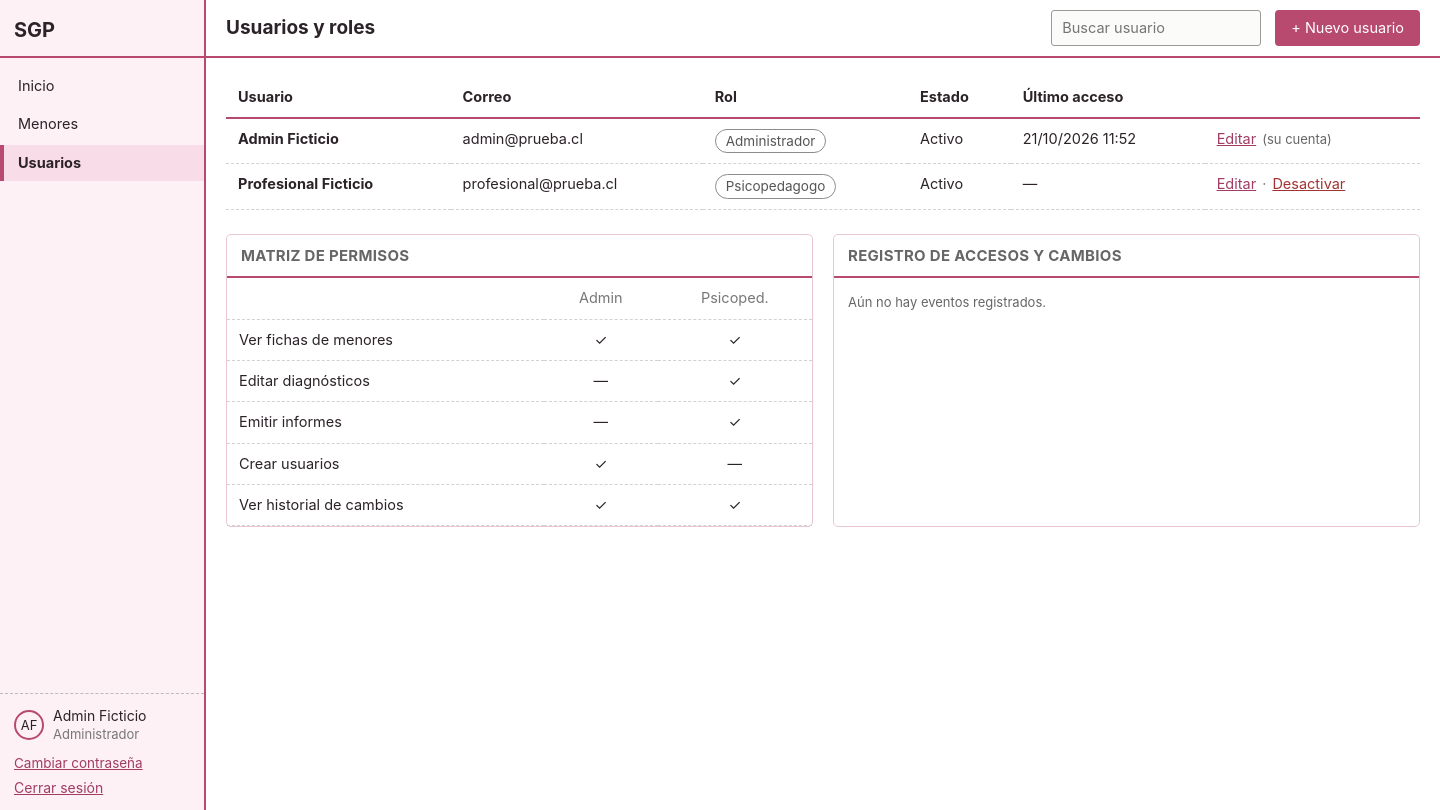
Test: Usuarios y roles (administrador) › registra un usuario con el rol seleccionado
expect the cell "profesional@prueba.cl" is shown: met, box [451, 164, 703, 210]
Click the button "+ Nuevo usuario" at (1348, 28), box [1275, 10, 1420, 46]
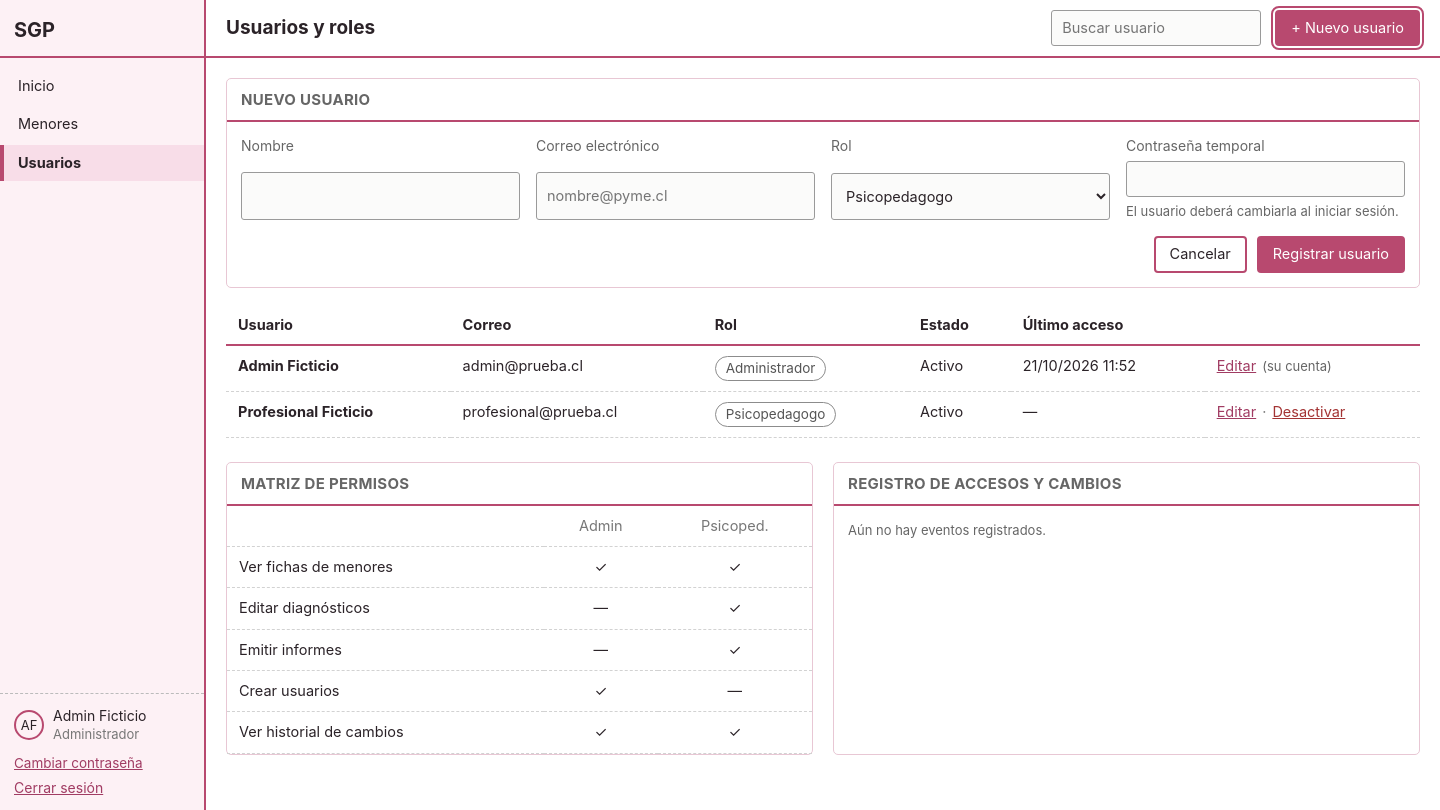
Type "Nueva Cuenta Ficticia" into the field labelled "Nombre" at (380, 196), box [241, 172, 520, 220]
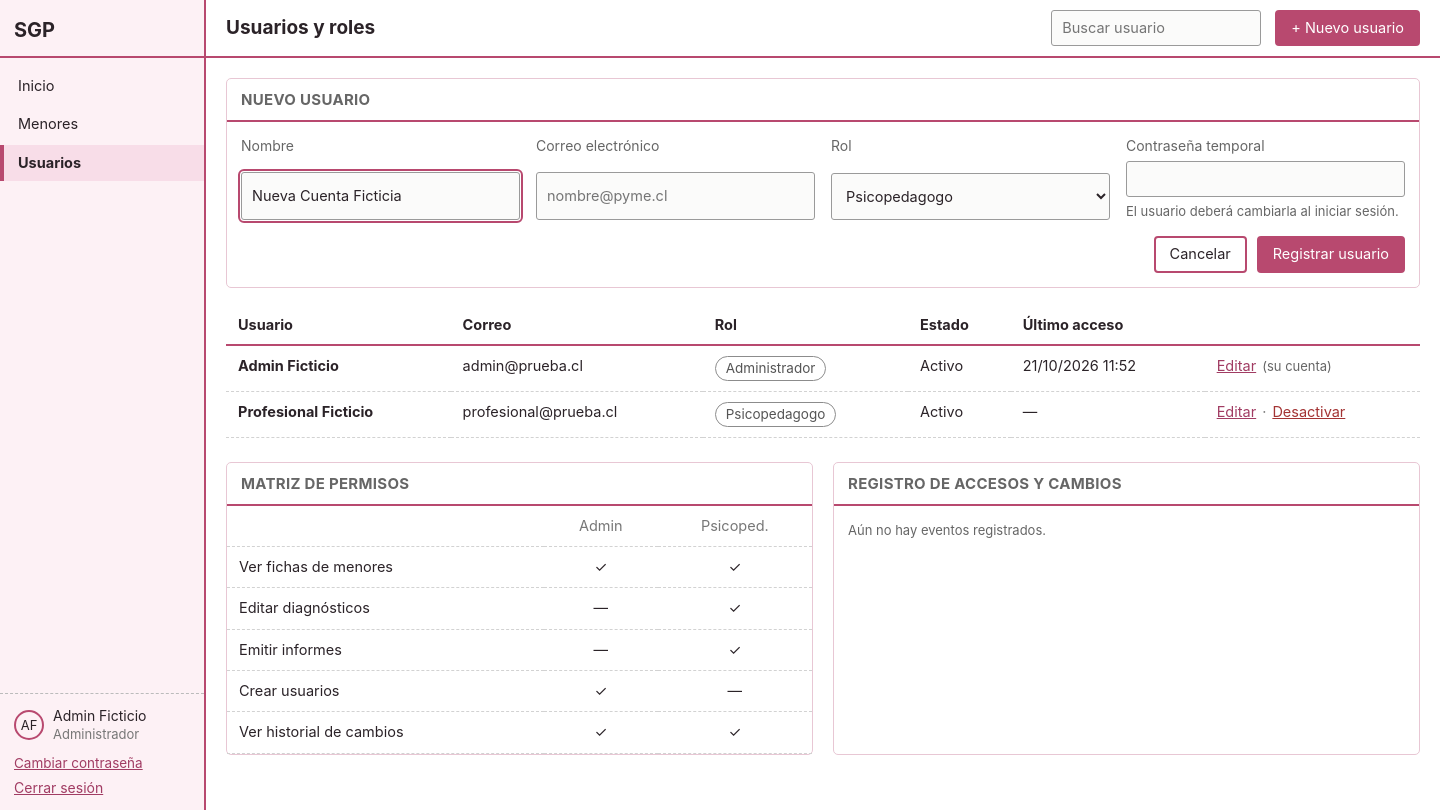
Type "nueva@prueba.cl" into the field labelled "Correo electrónico" at (676, 196), box [536, 172, 815, 220]
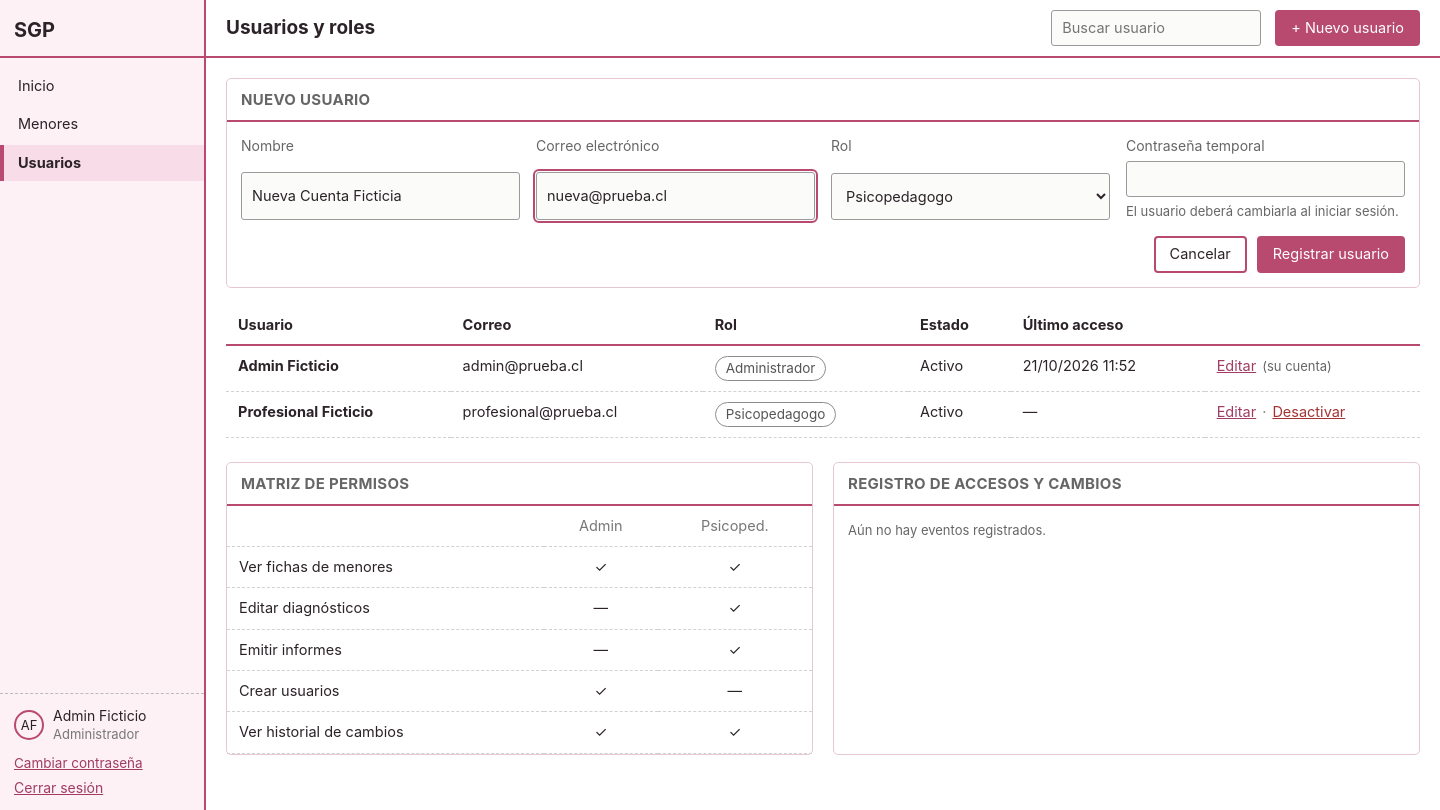
Select "Administrador" in the dropdown labelled "Rol" at (970, 197), box [831, 173, 1110, 220]
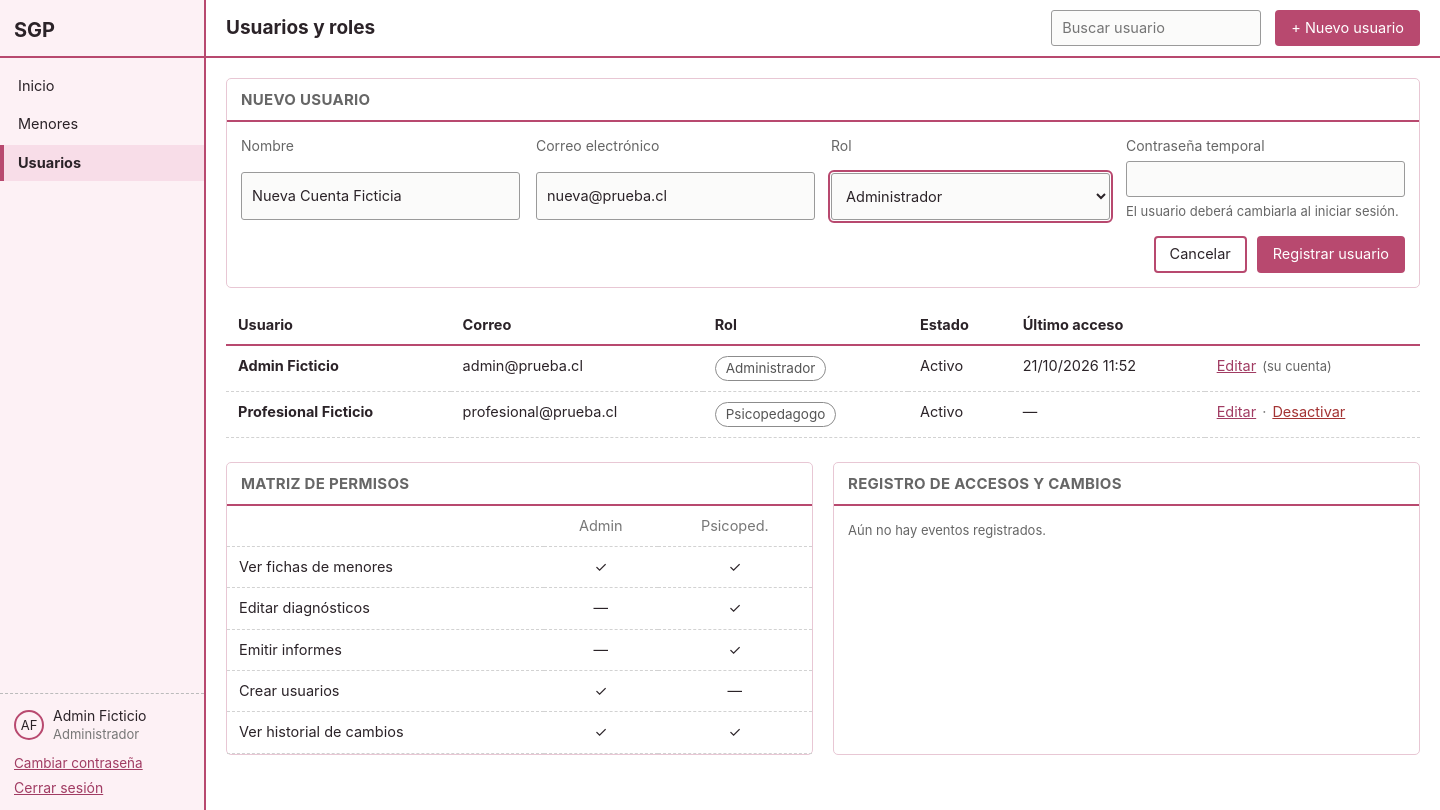
Type "ClaveInicial2024" into the password field labelled "Contraseña temporal" at (1266, 179), box [1126, 161, 1405, 197]
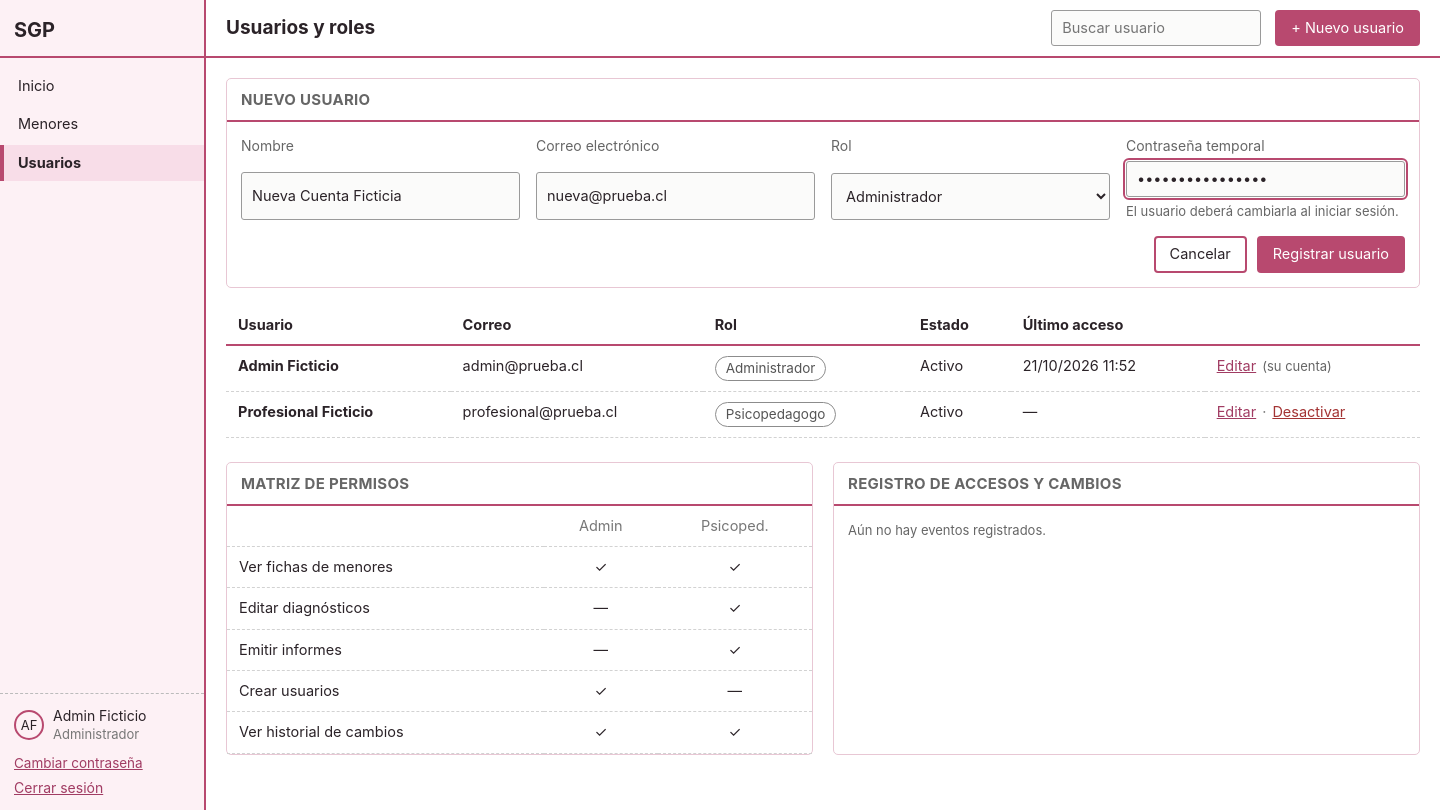
Click the button "Registrar usuario" at (1331, 255), box [1257, 236, 1405, 273]
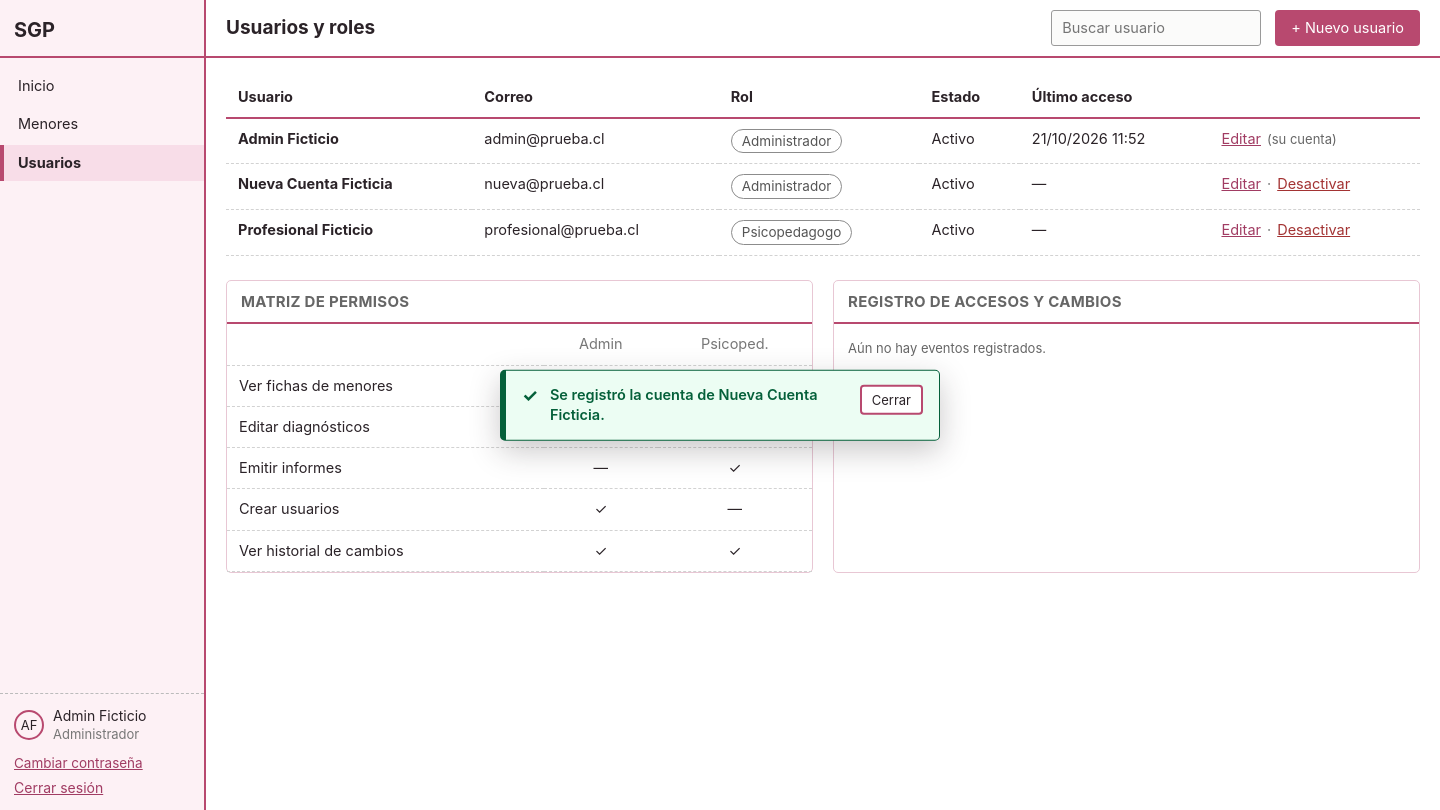
expect the cell "nueva@prueba.cl" is shown: met, box [472, 164, 719, 210]
